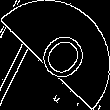O_SW: (23, 22, 87, 88)
